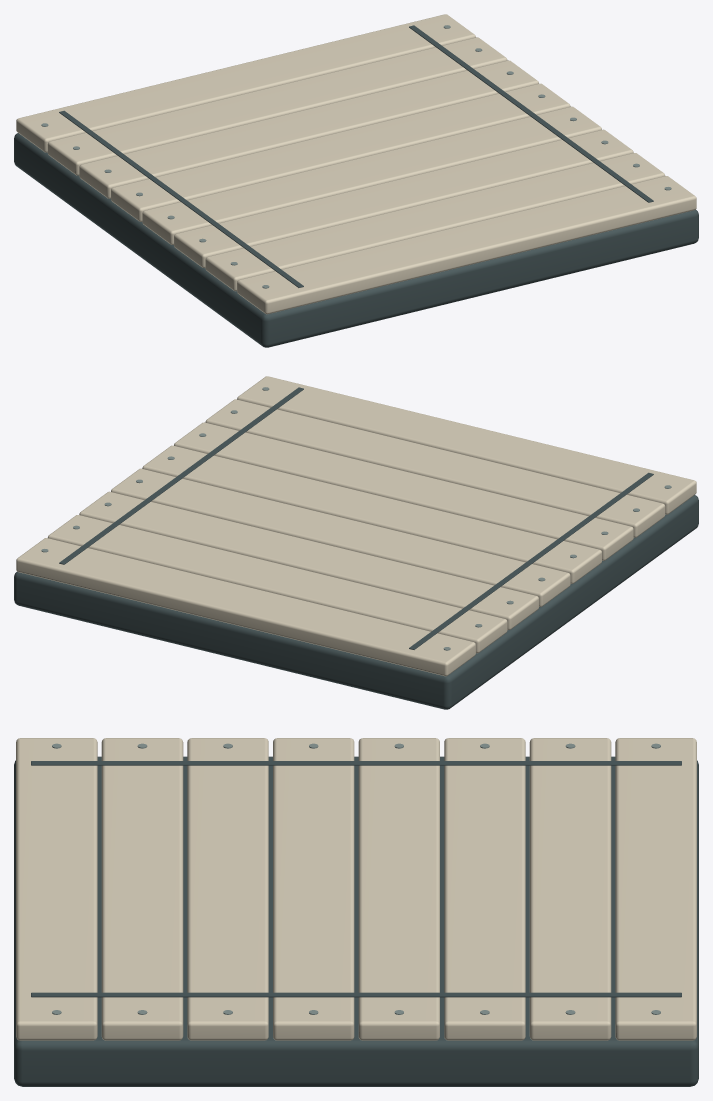
Rendered from deck-floor-2m.glb.
The picture shows the model from 3 angles, top to bottom: view 1: azimuth 30°, elevation 25°; view 2: azimuth 150°, elevation 25°; view 3: azimuth 270°, elevation 25°; orthographic projection. The views are drawn at different scales.
Visible parts, largest first — view 1: deck-floor-2m / 01 • warm porcelain paint, deck-floor-2m / 06 • dark anodized frame; view 2: deck-floor-2m / 01 • warm porcelain paint, deck-floor-2m / 06 • dark anodized frame; view 3: deck-floor-2m / 01 • warm porcelain paint, deck-floor-2m / 06 • dark anodized frame, deck-floor-2m / 05 • brushed titanium.
Boxes of the visible parts, box(x1,y1,x2,y2) form: deck-floor-2m / 01 • warm porcelain paint: box(16, 14, 696, 314); deck-floor-2m / 06 • dark anodized frame: box(14, 25, 698, 347); deck-floor-2m / 01 • warm porcelain paint: box(16, 376, 696, 676); deck-floor-2m / 06 • dark anodized frame: box(14, 387, 698, 709); deck-floor-2m / 01 • warm porcelain paint: box(16, 738, 696, 1040); deck-floor-2m / 06 • dark anodized frame: box(14, 756, 698, 1086); deck-floor-2m / 05 • brushed titanium: box(52, 743, 660, 1014).
Size of the model in its own units: 2 by 0.214 by 2.
